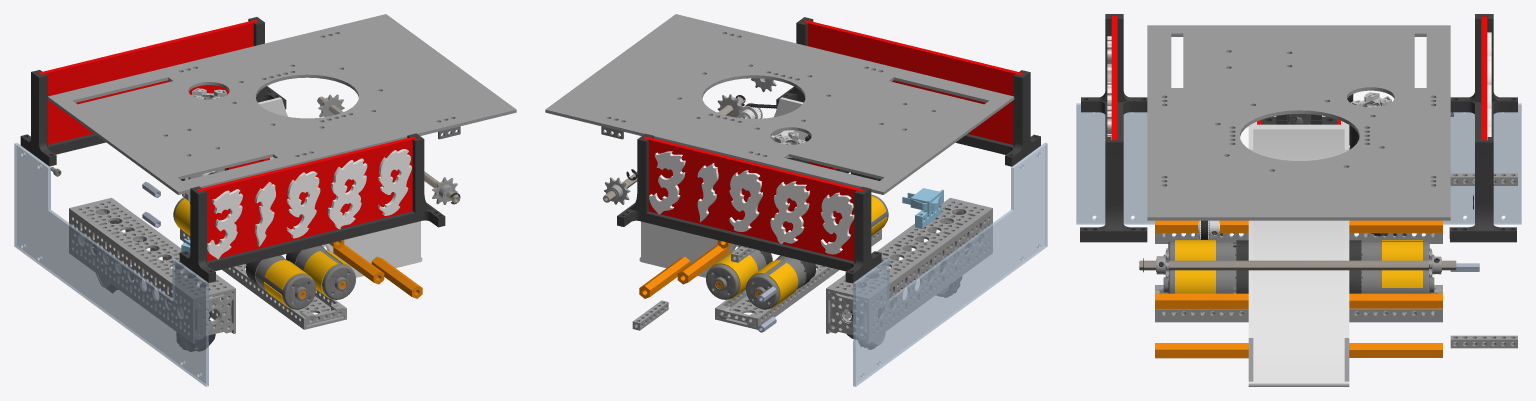
The model's file is frame.glb.
3 renders of one model, left to right at view 1: azimuth 30°, elevation 25°; view 2: azimuth 150°, elevation 25°; view 3: azimuth 270°, elevation 25°, orthographic. The views are drawn at different scales.
Visible parts, largest first — view 1: part-120, part-116, part-108, part-70, part-325, part-146, part-149, part-323, part-331, part-61, part-693, part-78 (+12 smaller); view 2: part-120, part-116, part-108, part-325, part-70, part-149, part-146, part-323, part-331, part-112, part-403, part-76 (+13 smaller); view 3: part-120, part-323, part-116, part-149, part-146, part-81, part-331, part-322, part-328, part-330, part-320, part-327 (+16 smaller).
Boxes of the visible parts, x1,y1,x2,y2 form: part-120: (47, 14, 516, 194); part-116: (14, 143, 208, 386); part-108: (69, 197, 235, 343); part-70: (197, 136, 417, 261); part-325: (38, 19, 258, 144); part-146: (179, 133, 445, 282); part-149: (20, 17, 286, 166); part-323: (258, 97, 422, 277); part-331: (180, 229, 346, 329); part-61: (327, 158, 367, 229); part-693: (246, 255, 315, 309); part-78: (286, 171, 320, 238); part-120: (545, 14, 1014, 194); part-116: (853, 143, 1047, 386); part-108: (826, 197, 992, 343); part-325: (643, 136, 864, 261); part-70: (803, 20, 1023, 144); part-149: (617, 133, 881, 283); part-146: (776, 17, 1040, 166); part-323: (639, 97, 808, 277); part-331: (715, 229, 881, 329); part-112: (770, 181, 809, 243); part-403: (746, 255, 815, 309); part-76: (820, 192, 854, 254); part-120: (1147, 25, 1450, 220); part-323: (1248, 121, 1349, 386); part-116: (1076, 103, 1521, 224); part-149: (1449, 14, 1517, 242); part-146: (1080, 14, 1147, 242); part-81: (1139, 260, 1456, 270); part-331: (1155, 285, 1442, 322); part-322: (1155, 343, 1248, 358); part-328: (1349, 293, 1442, 308); part-330: (1155, 293, 1248, 308); part-320: (1349, 343, 1442, 357); part-327: (1349, 220, 1442, 233).
Size of the model in its own units: 0.3811 by 0.2129 by 0.3711.
